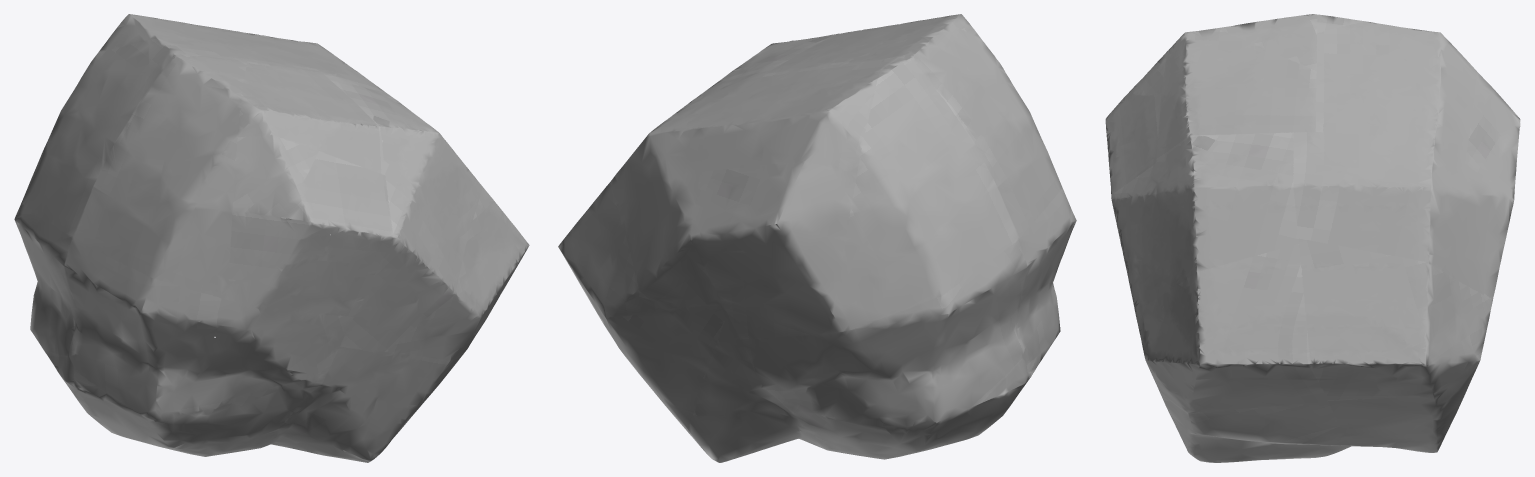
Rendered from xs_eraser_crumb.glb.
3 views of the same model, side by side, from view 1: azimuth 30°, elevation 25°; view 2: azimuth 150°, elevation 25°; view 3: azimuth 270°, elevation 25° (orthographic). The views are drawn at different scales.
Visible parts, largest first — view 1: tripo_node_64afb1bc-4c50-4847-9eab-ad63b5fbf481; view 2: tripo_node_64afb1bc-4c50-4847-9eab-ad63b5fbf481; view 3: tripo_node_64afb1bc-4c50-4847-9eab-ad63b5fbf481.
Part boxes in pixels (box(x1,y1,x2,y2)): tripo_node_64afb1bc-4c50-4847-9eab-ad63b5fbf481: box(14, 14, 529, 462); tripo_node_64afb1bc-4c50-4847-9eab-ad63b5fbf481: box(558, 14, 1076, 462); tripo_node_64afb1bc-4c50-4847-9eab-ad63b5fbf481: box(1105, 14, 1520, 462).
Bounding box in the file's own units: 0.9998 × 0.9433 × 0.9087.
Materials: 1 (1 with a texture image).
